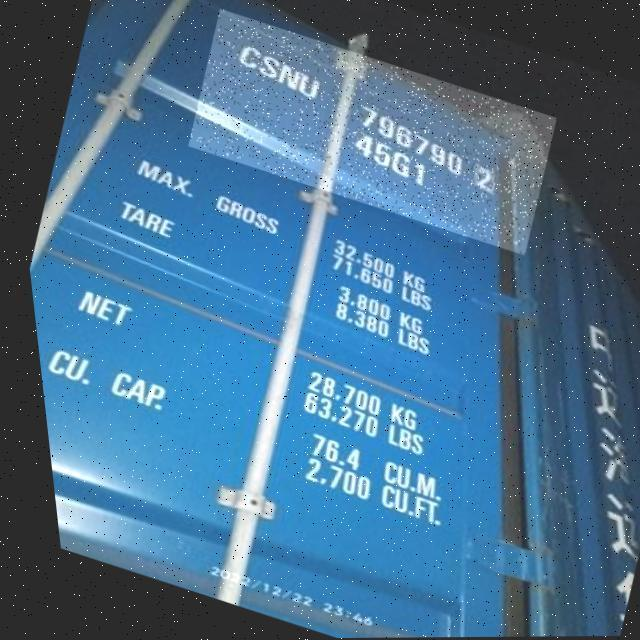container_number_h: (172, 7, 566, 258)
